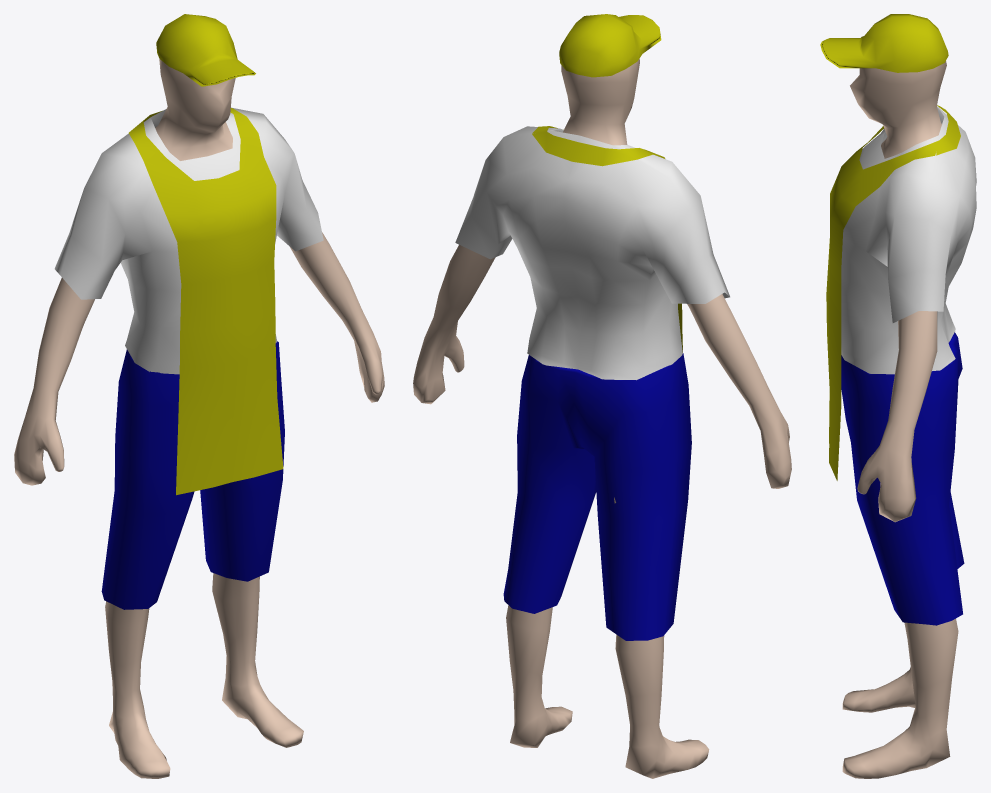
File: vendeur stand.fbx
The picture shows the model from 3 angles, left to right: view 1: azimuth 30°, elevation 25°; view 2: azimuth 150°, elevation 25°; view 3: azimuth 270°, elevation 25°; orthographic projection. The views are drawn at different scales.
Visible parts, largest first — view 1: vendeur_stand; view 2: vendeur_stand; view 3: vendeur_stand.
Part boxes in pixels (box(x1,y1,x2,y2)): vendeur_stand: box(14, 14, 384, 778); vendeur_stand: box(413, 14, 791, 778); vendeur_stand: box(820, 14, 976, 778).
Size of the model in its own units: 96.38 by 183 by 35.88.
